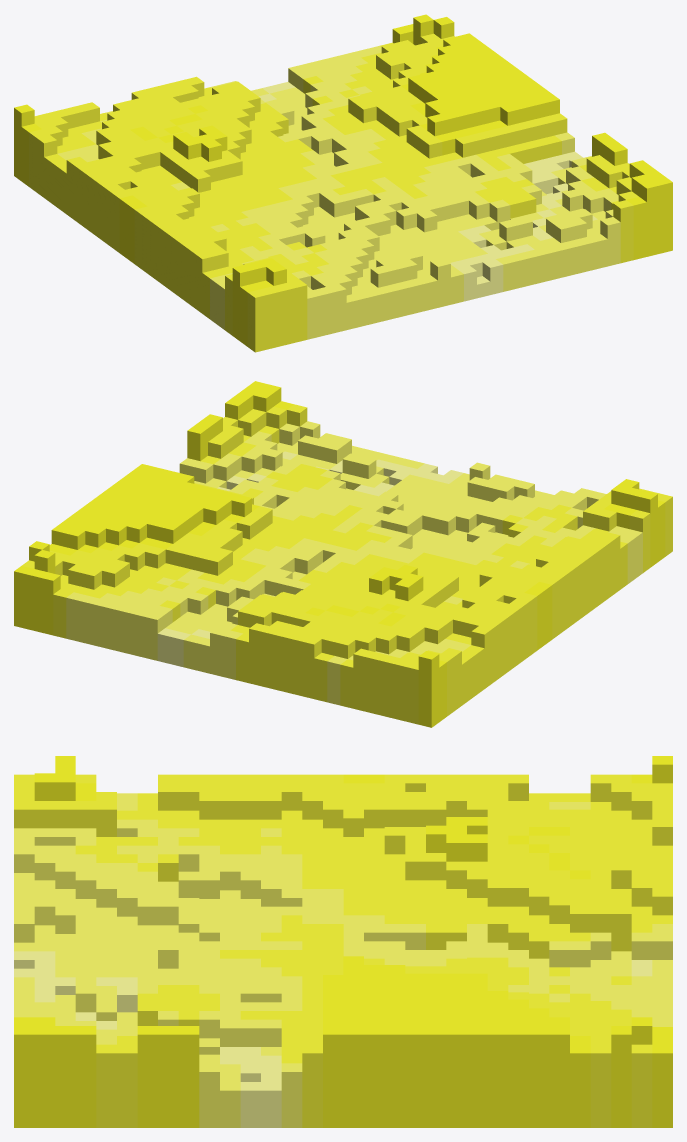
The model's file is Destert Map-11.obj.
3 renders of one model, top to bottom at view 1: azimuth 30°, elevation 25°; view 2: azimuth 150°, elevation 25°; view 3: azimuth 270°, elevation 25°, orthographic. The views are drawn at different scales.
Bounding box in the file's own units: 3.2 × 0.5 × 3.2.
1 material, 1 textured.
